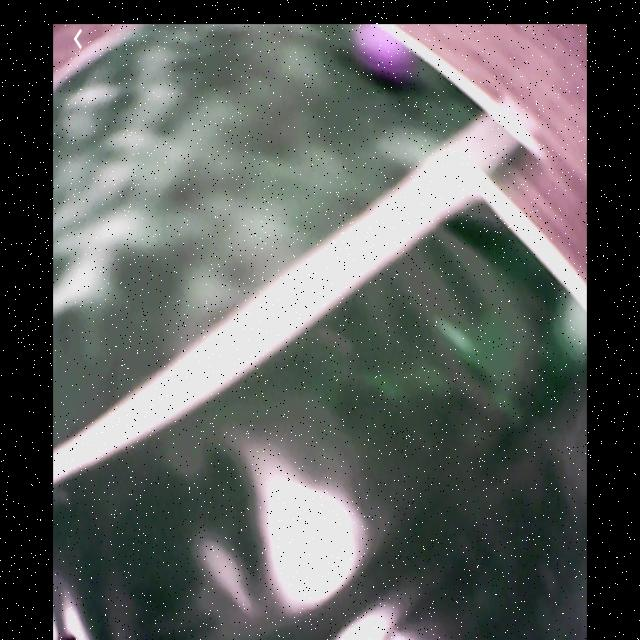ball: (351, 23, 420, 87)
